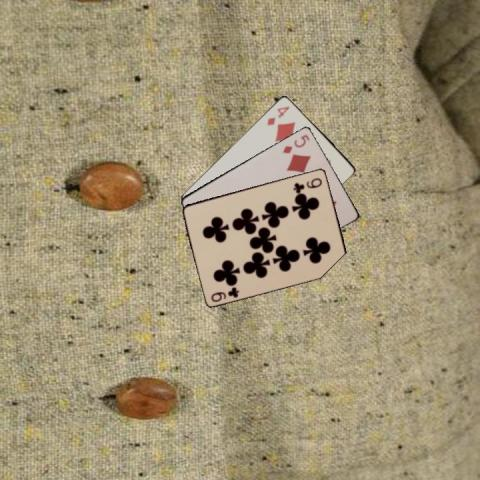4d: (264, 103, 291, 126)
5d: (280, 131, 312, 155)
9c: (208, 284, 241, 303), (290, 174, 323, 192)
